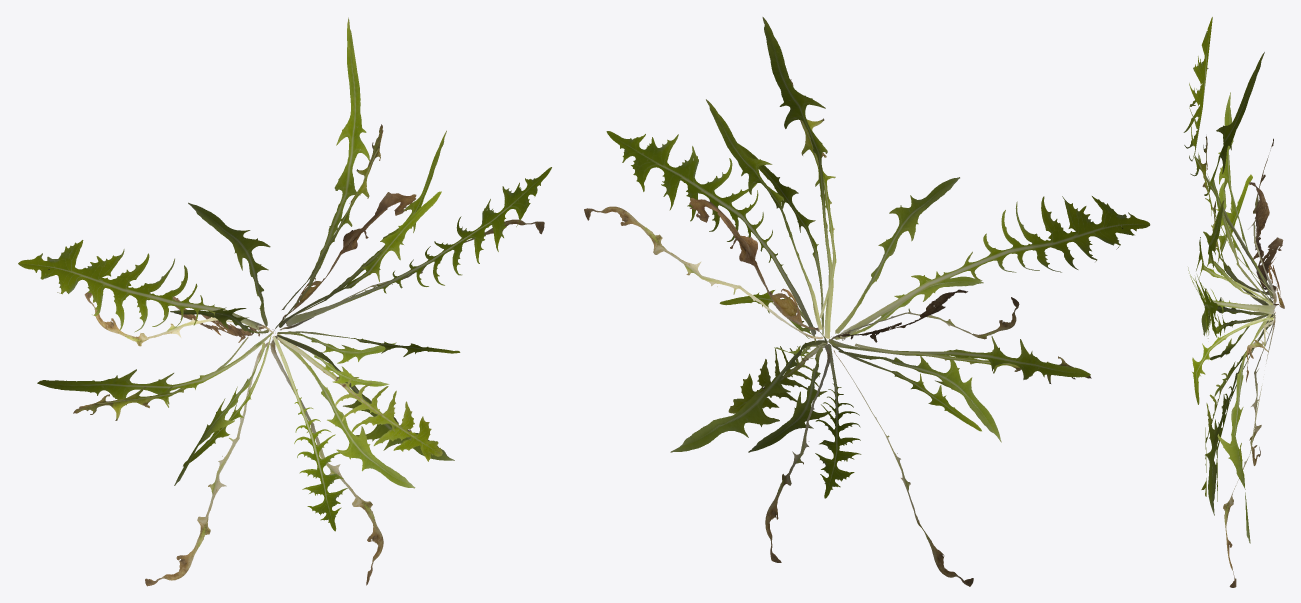
File: Weed_02_Var1_LOD0.fbx
The picture shows the model from 3 angles, left to right: view 1: azimuth 30°, elevation 25°; view 2: azimuth 150°, elevation 25°; view 3: azimuth 270°, elevation 25°; orthographic projection. The views are drawn at different scales.
Parts seen in each view (by area): view 1: Var1_LOD0; view 2: Var1_LOD0; view 3: Var1_LOD0.
Part boxes in pixels (x1=…): Var1_LOD0: x1=18, y1=17, x2=551, y2=586; Var1_LOD0: x1=584, y1=17, x2=1150, y2=586; Var1_LOD0: x1=1183, y1=17, x2=1284, y2=587.
Bounding box in the file's own units: 37.18 × 36.22 × 6.33.
